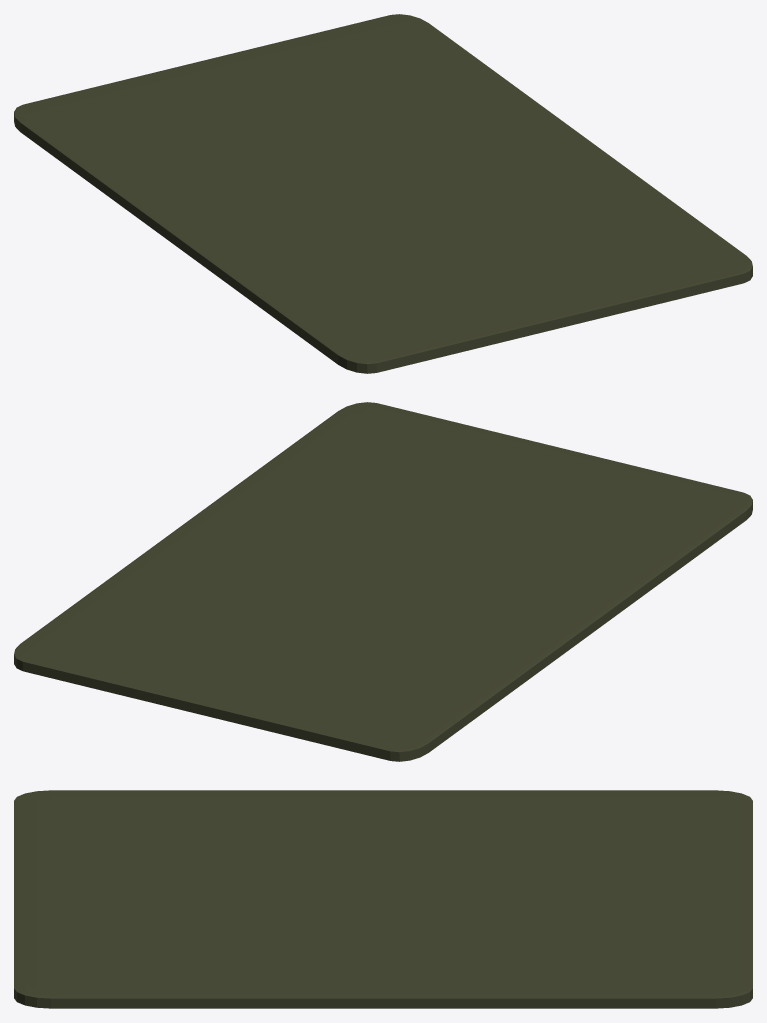
The model's file is card.obj.
3 views of the same model, one above another, from view 1: azimuth 30°, elevation 25°; view 2: azimuth 150°, elevation 25°; view 3: azimuth 270°, elevation 25° (orthographic). The views are drawn at different scales.
Visible parts, largest first — view 1: Card; view 2: Card; view 3: Card.
Boxes of the visible parts, box(x1,y1,x2,y2) form: Card: box(14, 14, 752, 373); Card: box(14, 402, 752, 761); Card: box(14, 790, 752, 1008).
Size of the model in its own units: 0.04 by 0.001 by 0.06.
